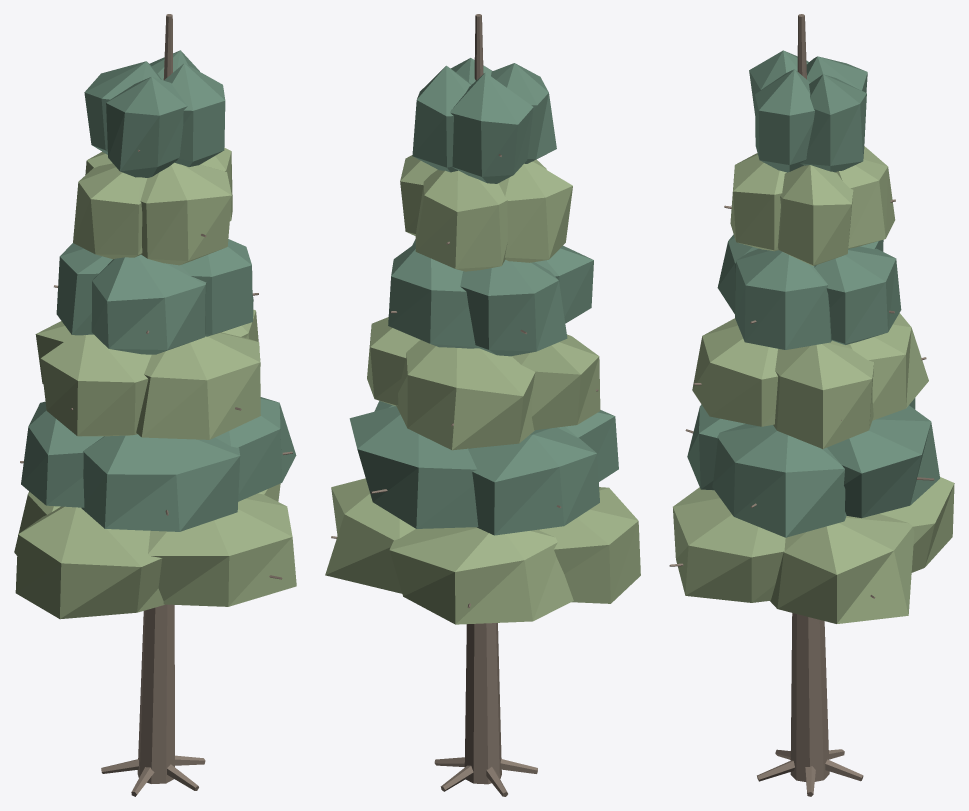
3 views of the same model, side by side, from view 1: azimuth 30°, elevation 25°; view 2: azimuth 150°, elevation 25°; view 3: azimuth 270°, elevation 25° (orthographic).
Size of the model in its own units: 9.28 by 24.61 by 8.33.
